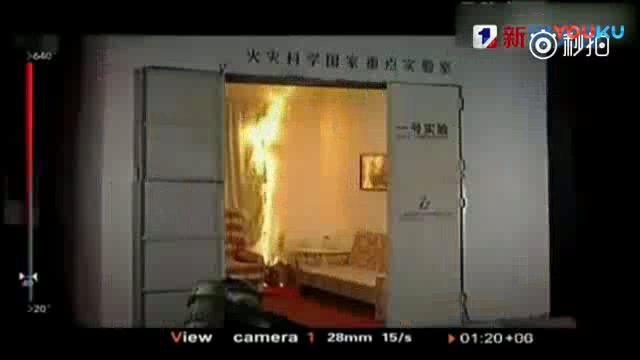fire: (241, 84, 295, 265)
